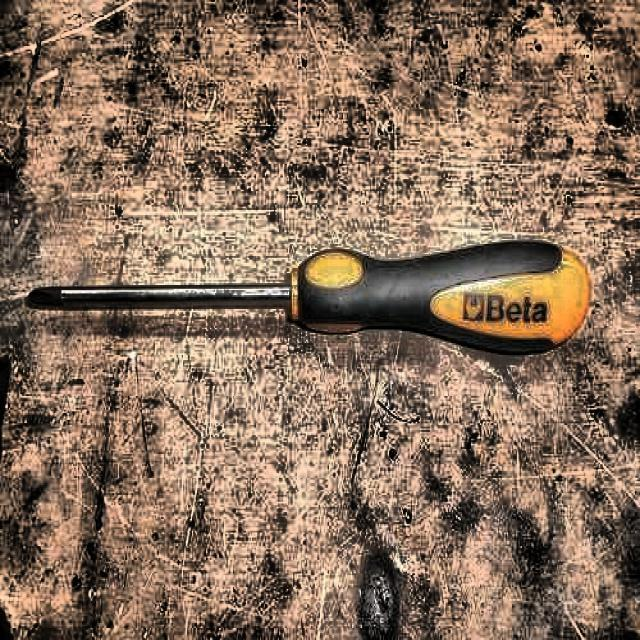screwdriver: (27, 238, 596, 358)
